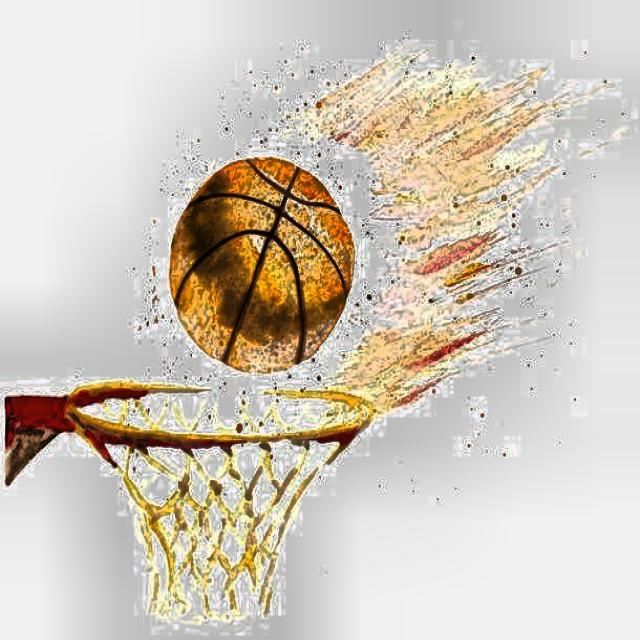board: (168, 155, 356, 376)
rim: (66, 382, 378, 615)
